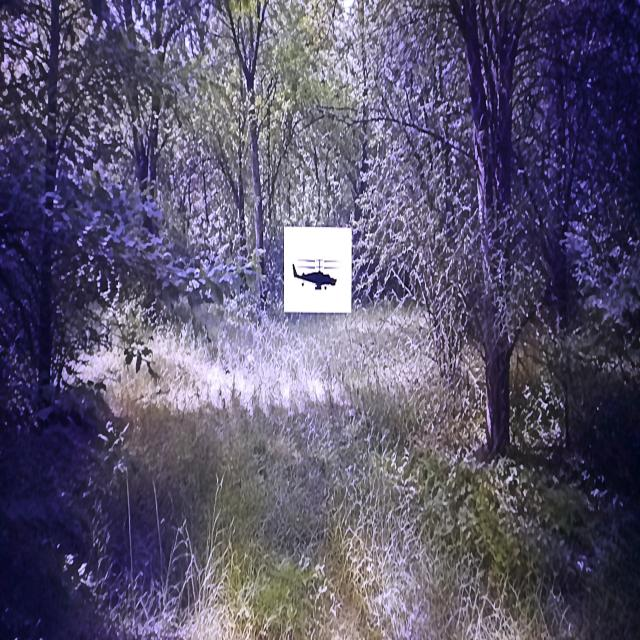Ka-52 Enemy: (293, 264, 337, 290)
